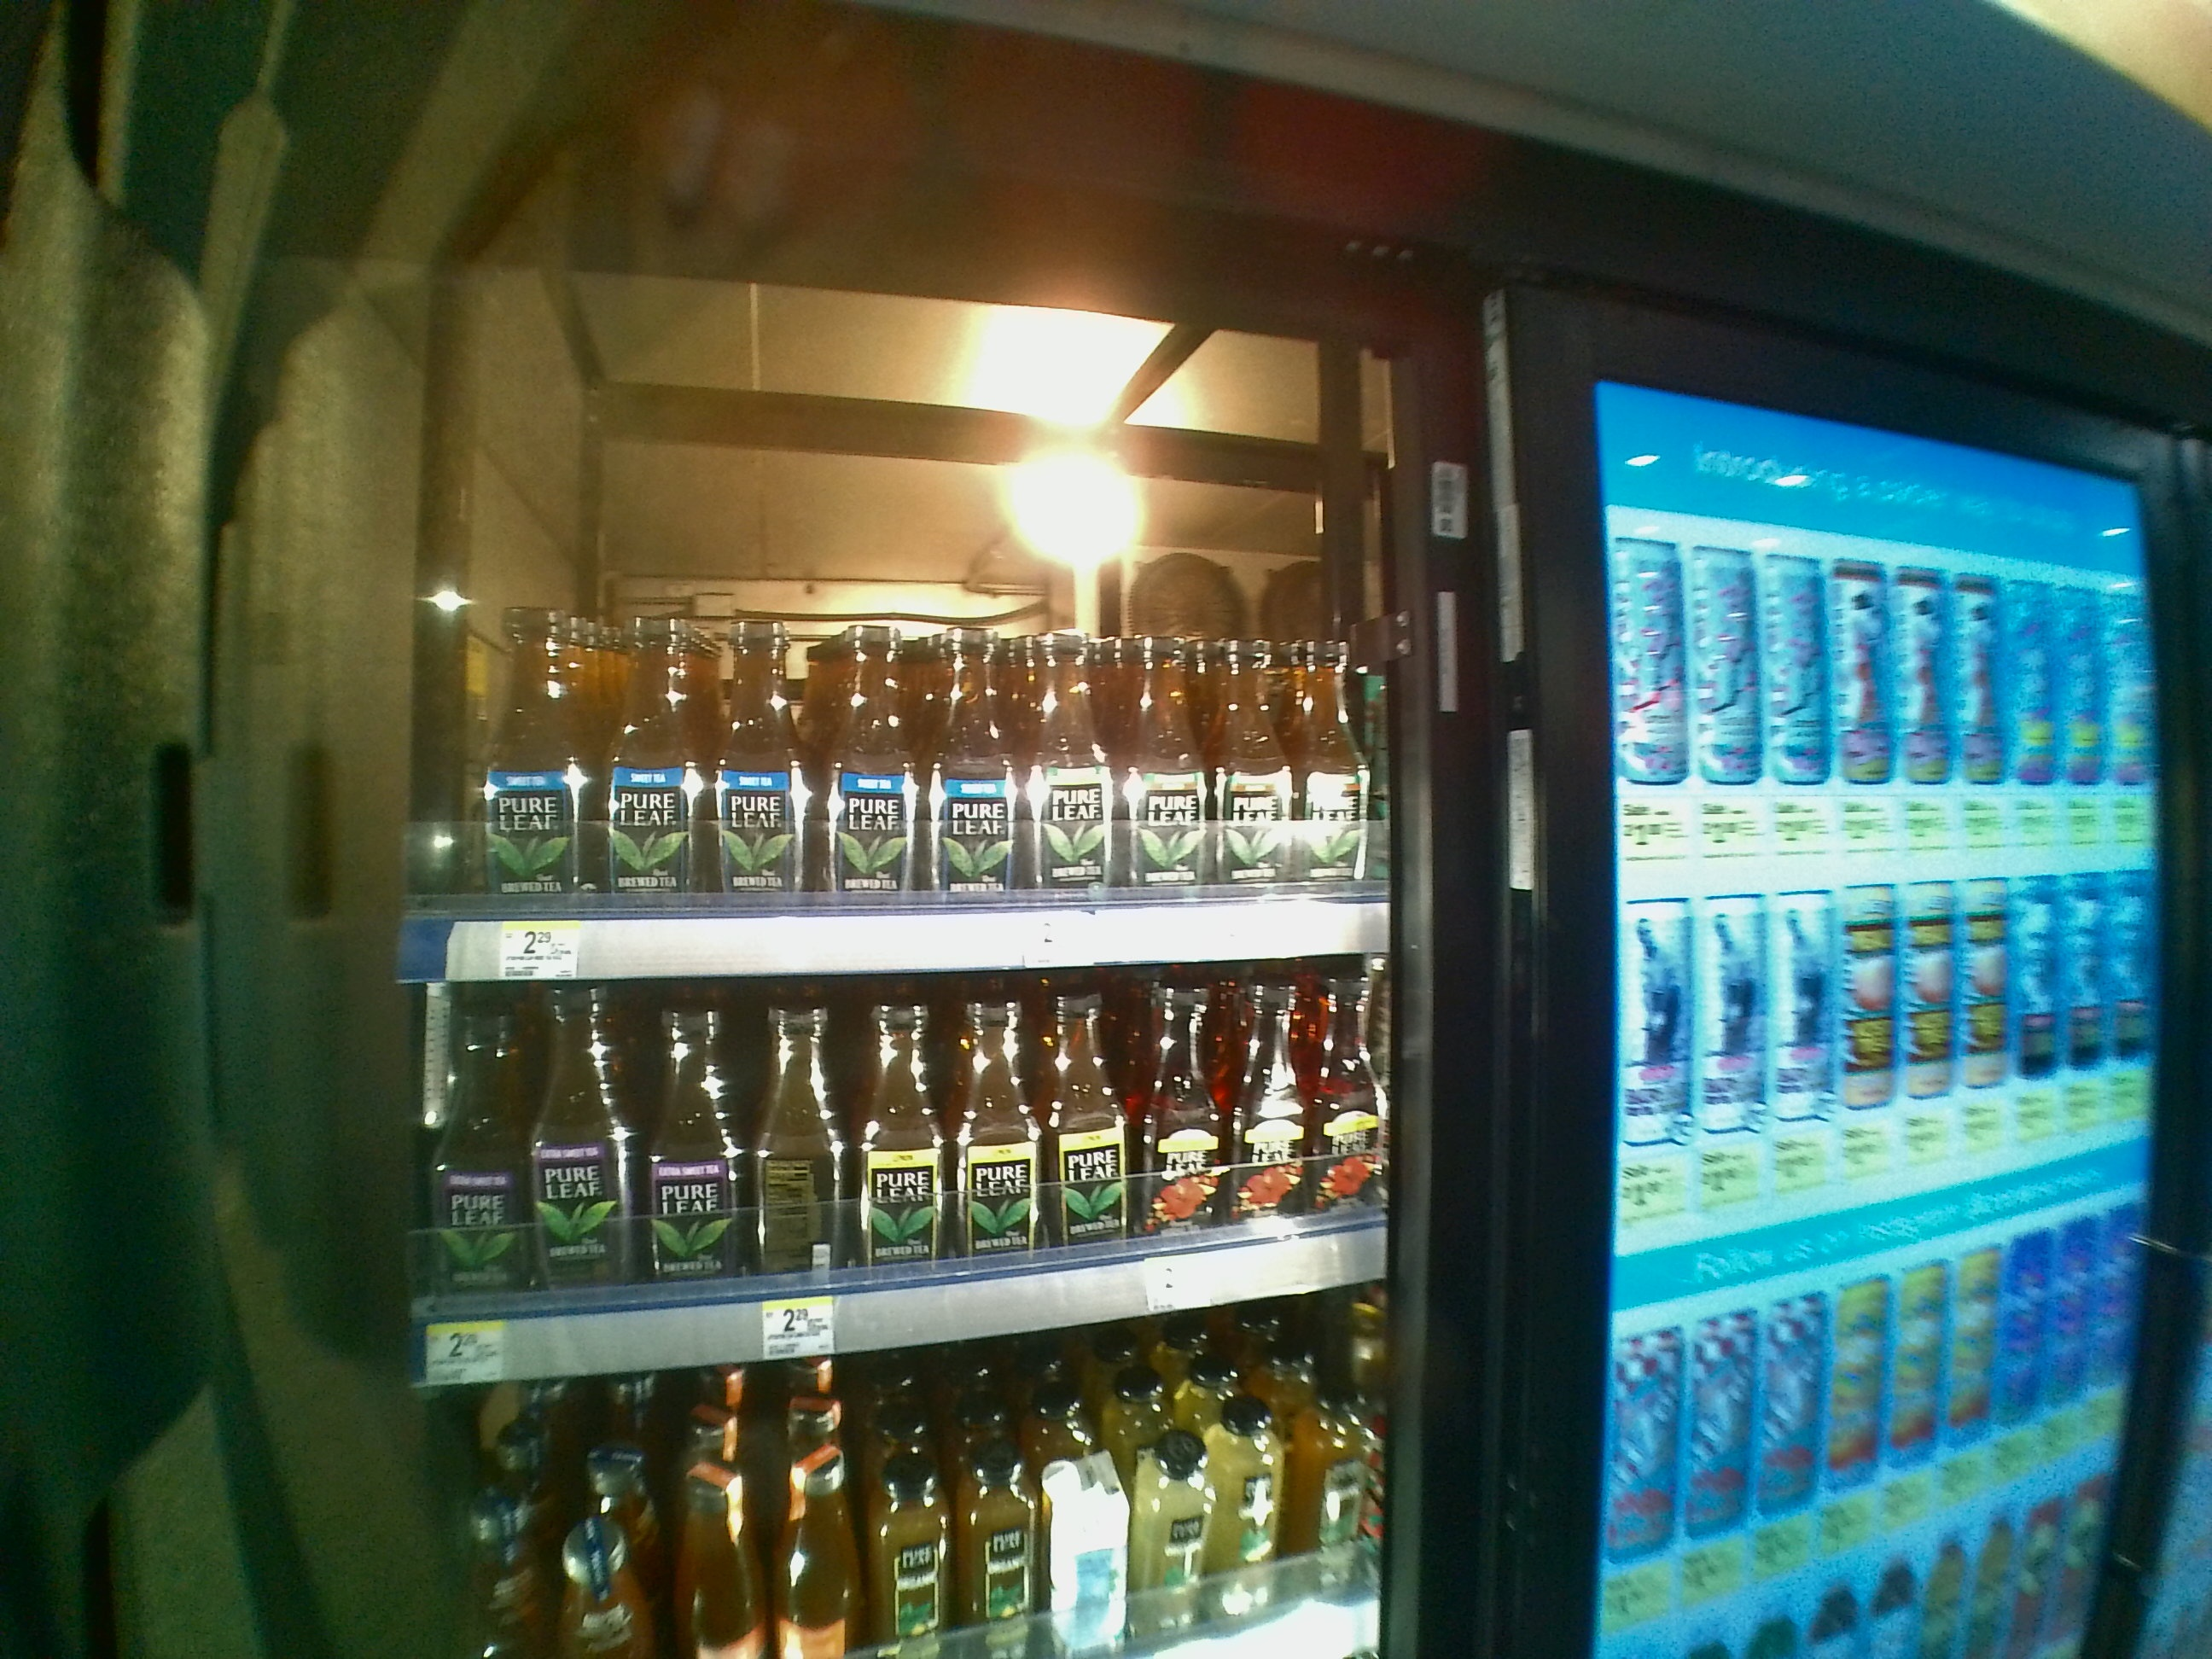shelf: (392, 362, 1388, 967), (395, 985, 1395, 1385)
